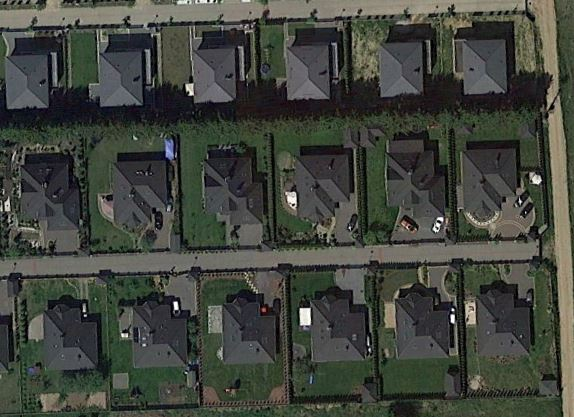family house: (380, 136, 449, 222), (199, 153, 267, 229), (104, 156, 172, 232), (16, 156, 84, 232), (128, 293, 193, 372), (217, 290, 282, 369), (304, 286, 369, 365), (390, 284, 455, 363), (472, 285, 537, 364), (457, 145, 521, 218), (40, 301, 101, 375), (295, 148, 353, 223), (1, 47, 64, 115), (88, 44, 151, 112), (182, 41, 245, 109), (273, 38, 336, 106), (371, 36, 434, 104), (451, 33, 514, 101)
